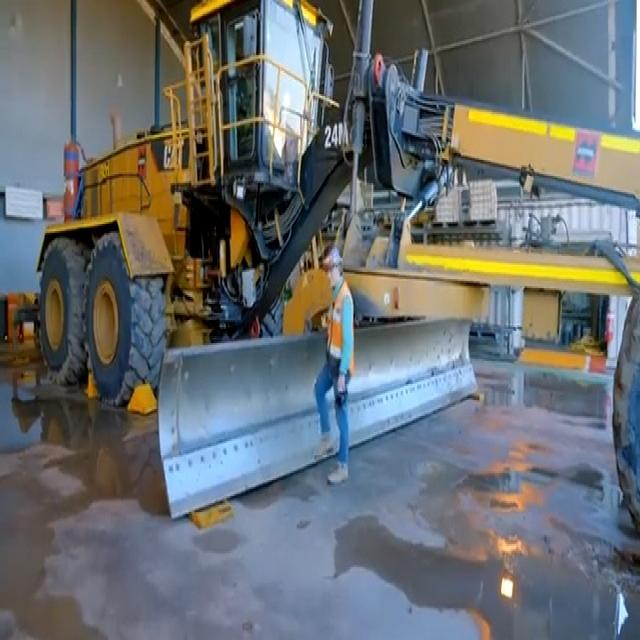buldozerpayloadergrader: (63, 163, 640, 505)
